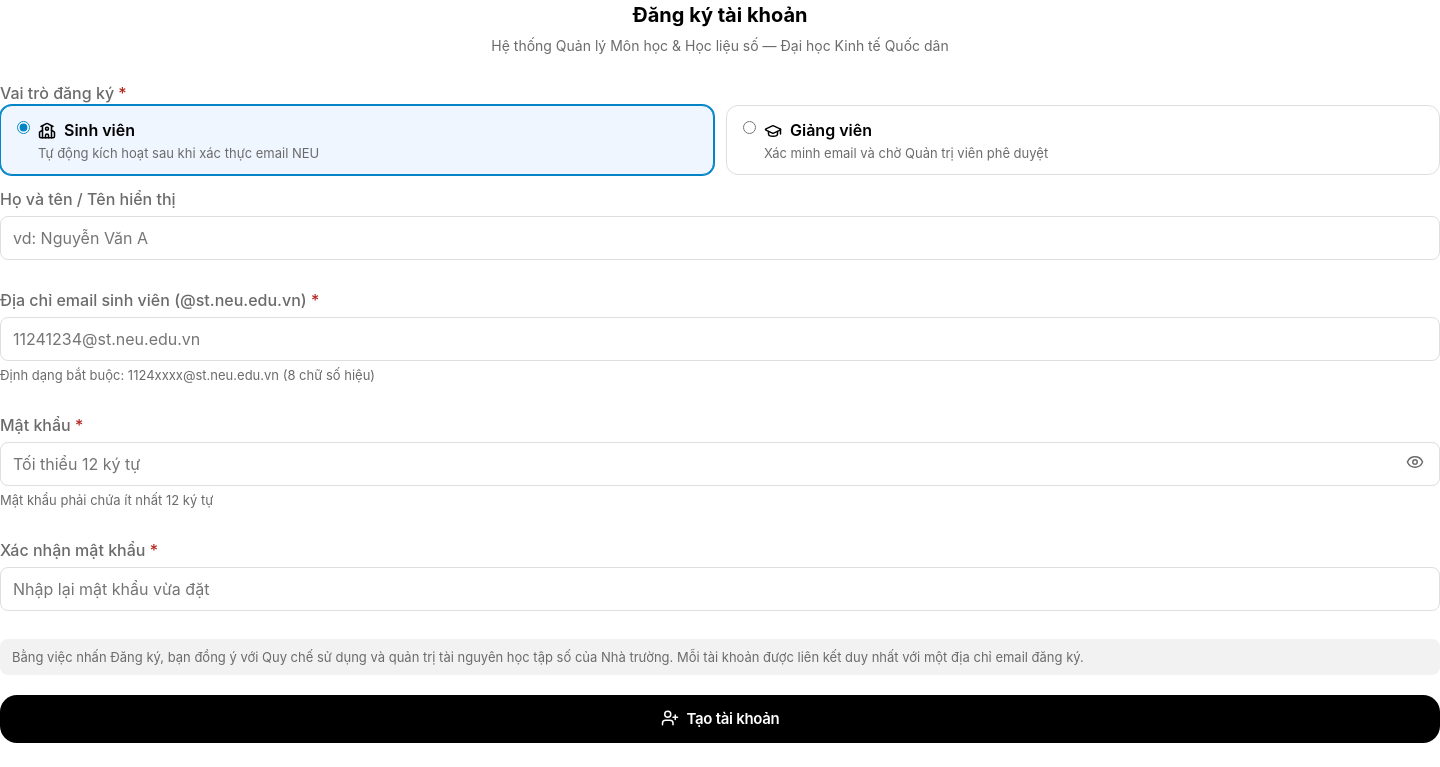
Test: T06 / B04 — Auth UI: Registration, Verification & Role State › RegisterPage Component › displays server error message when registration fails (e.g. 409 email already registered)
In the field labelled "Họ và tên / Tên hiển thị": (720, 238) [0,216,1439,260], type "Test Duplicate"
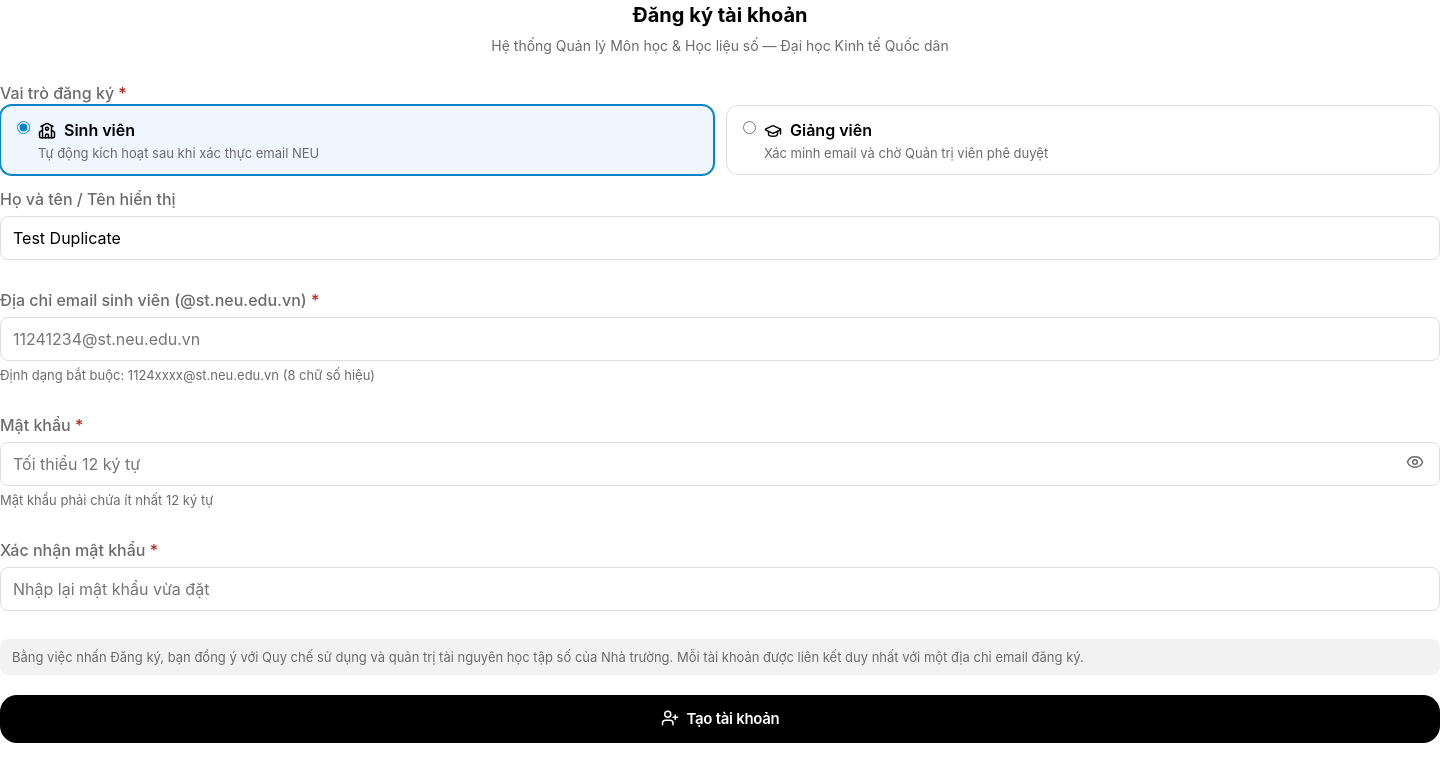
In the field labelled "Địa chỉ email sinh viên (@st.neu.edu.vn) *": (720, 339) [0,317,1439,361], type "11240002@st.neu.edu.vn"
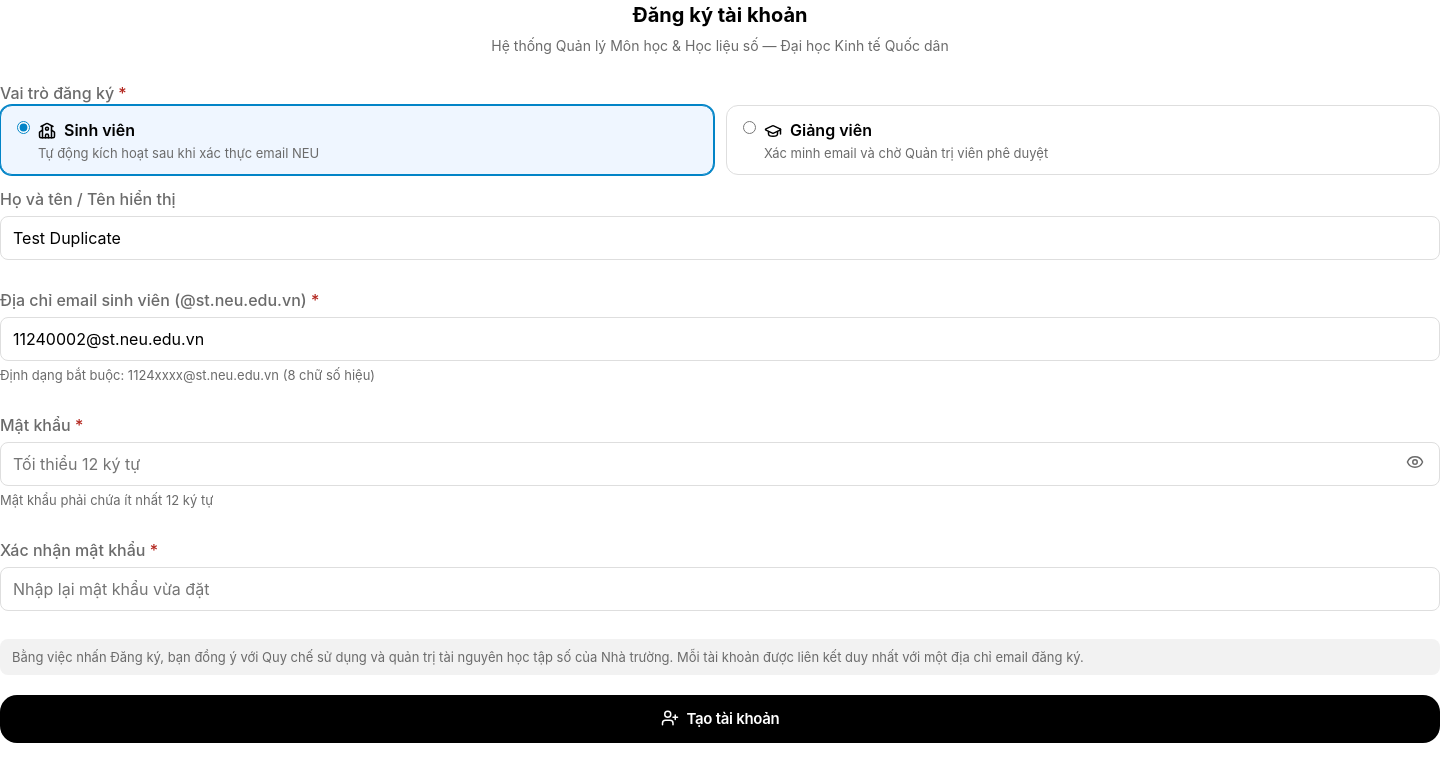
In the password field labelled "Mật khẩu *": (720, 464) [0,442,1439,486], type "Password123!"
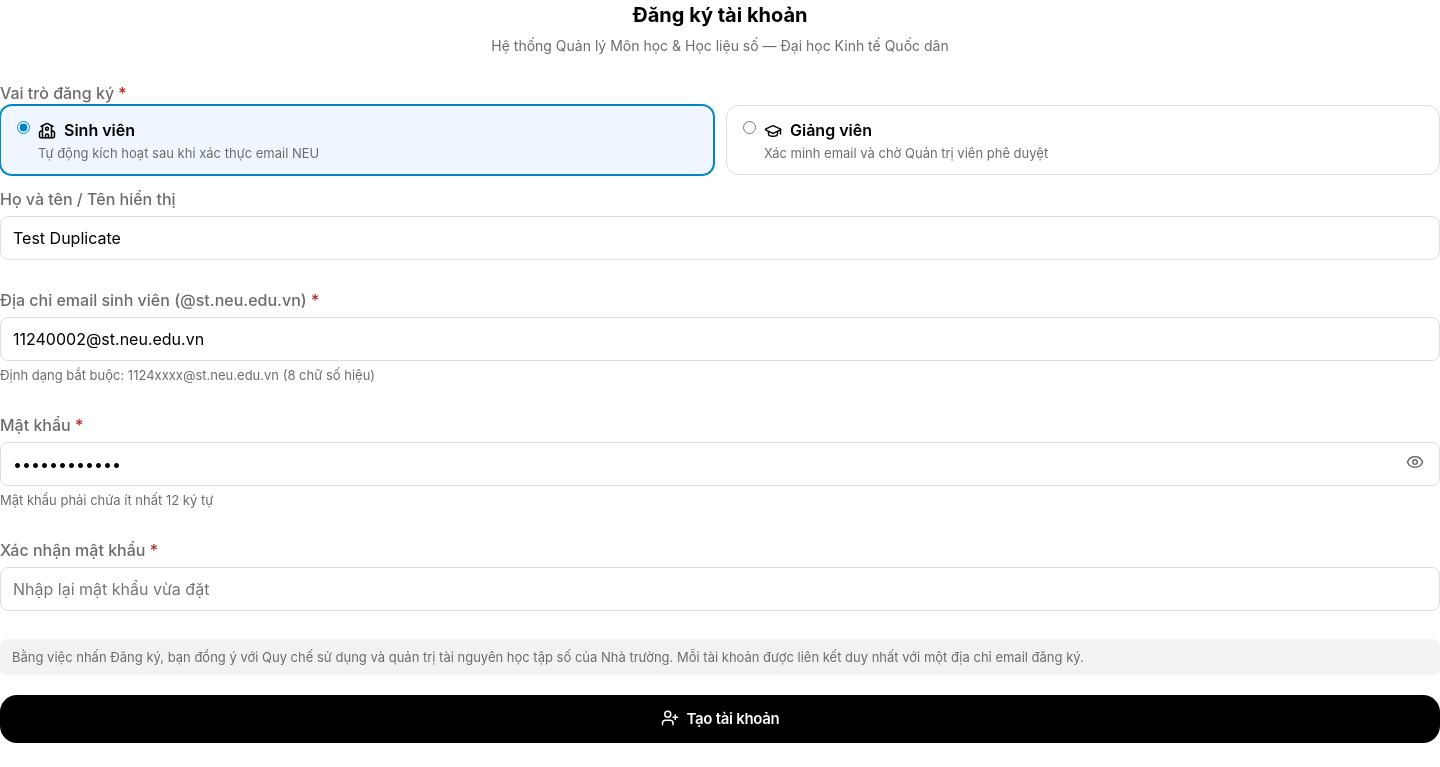
In the password field labelled "Xác nhận mật khẩu *": (720, 589) [0,567,1439,611], type "Password123!"
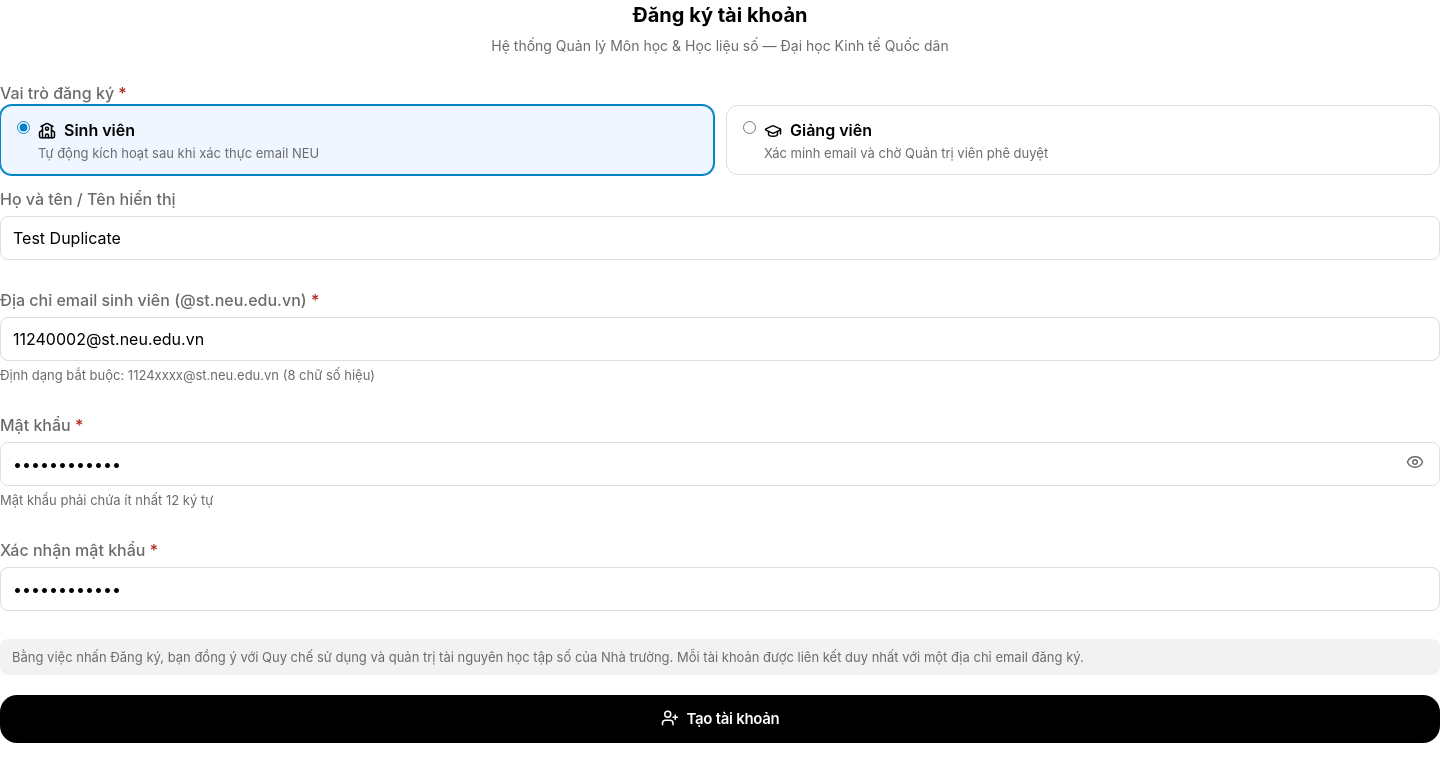
Click the button "Tạo tài khoản": (720, 719) [0,695,1439,743]
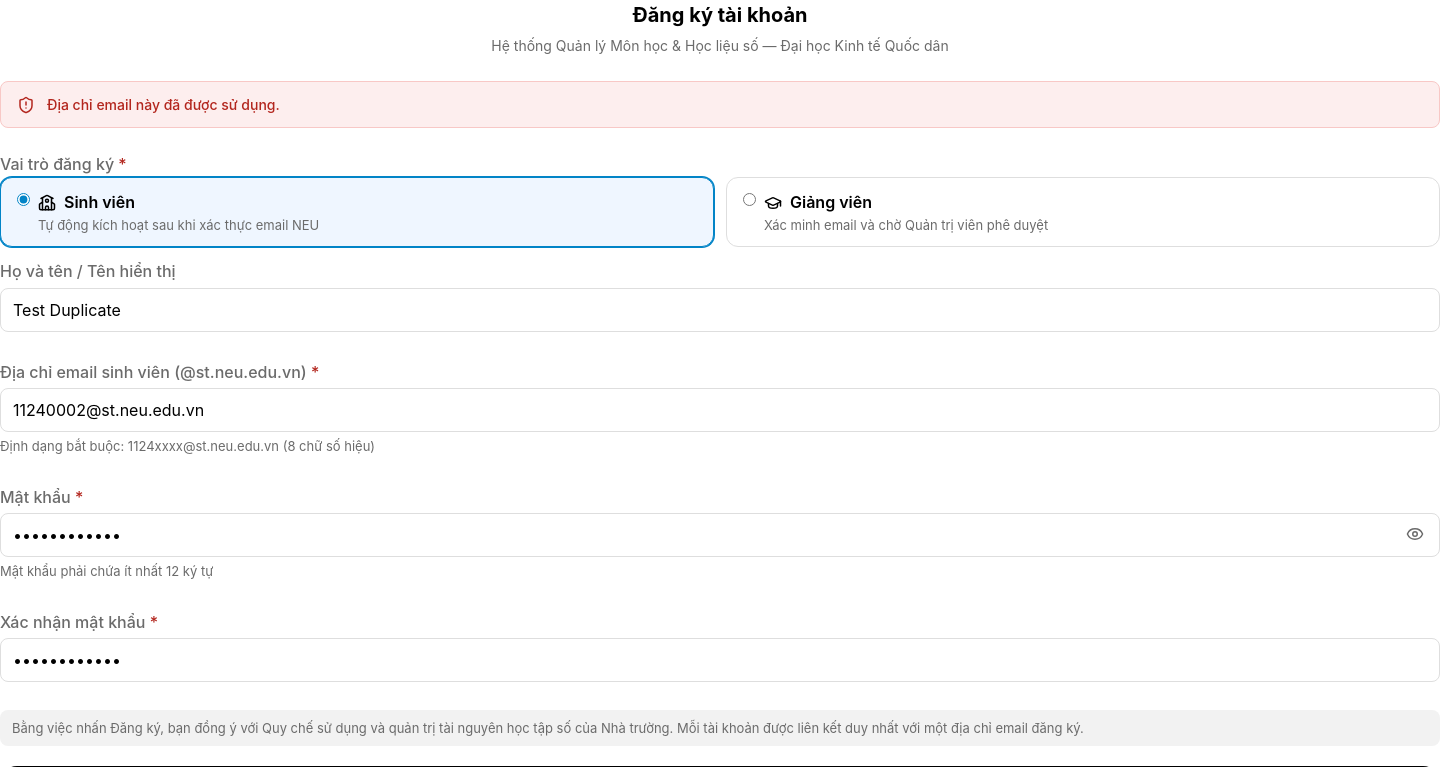
Now the text "Địa chỉ email này đã được sử dụng." is shown, box [47,94,280,115]
